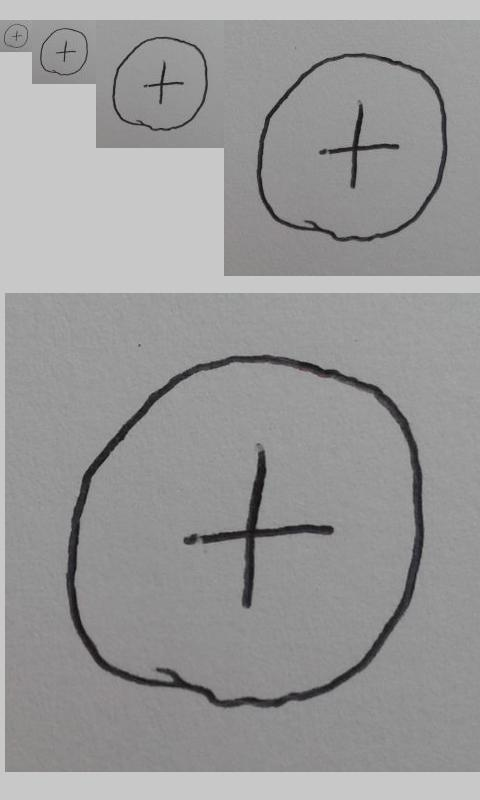button: (65, 353, 426, 712), (256, 52, 448, 243), (112, 36, 209, 132), (40, 27, 89, 76), (3, 23, 29, 49)
